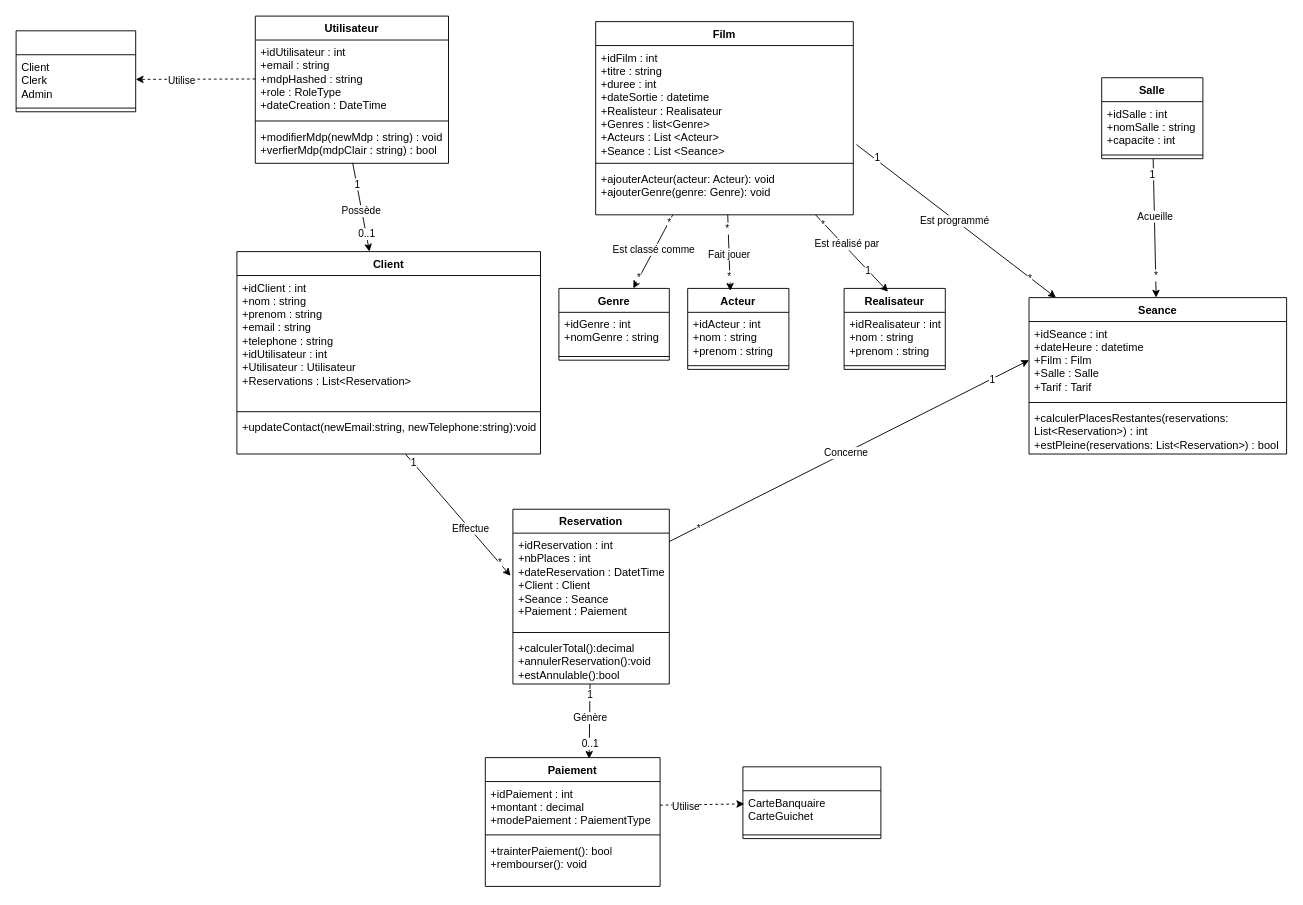
This 1303x905 diagram has some shape labels left out. Here are the shapes that lost their labels. From the top down, the box of each, then its label:
(15, 30, 136, 112): <<enum>> RoleType
(742, 766, 881, 839): <<enum>> PaiementType
